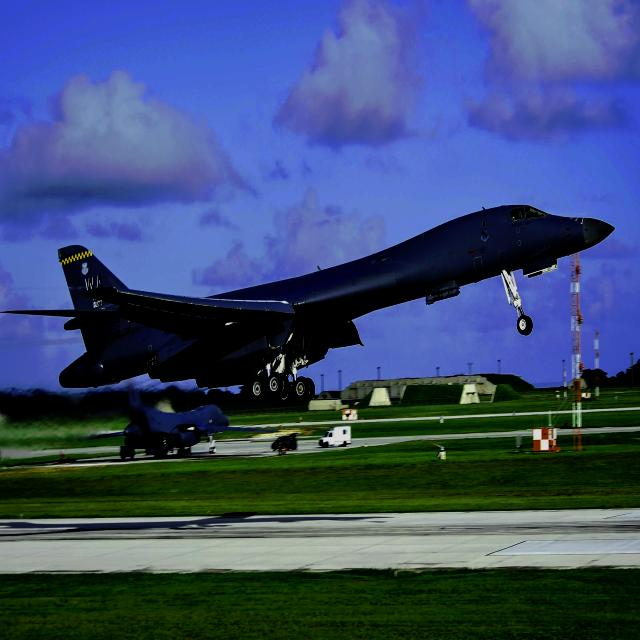Aircraft: (5, 165, 619, 410), (78, 388, 234, 469)
